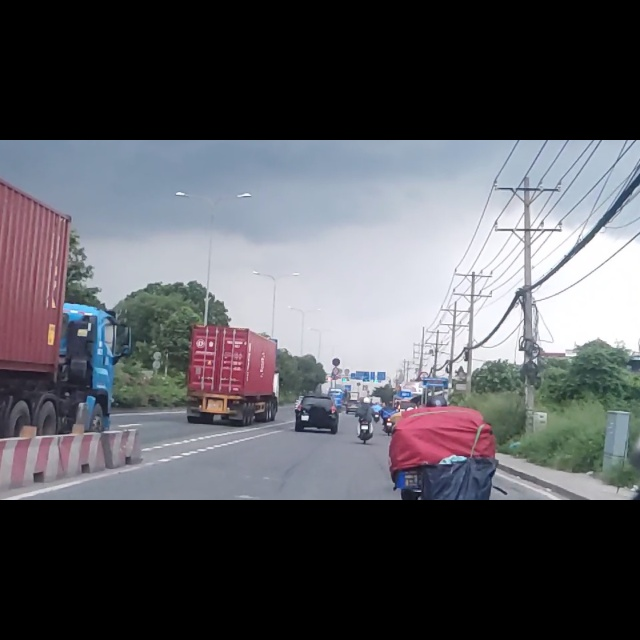bien_chi_dan: (332, 386, 341, 403)
